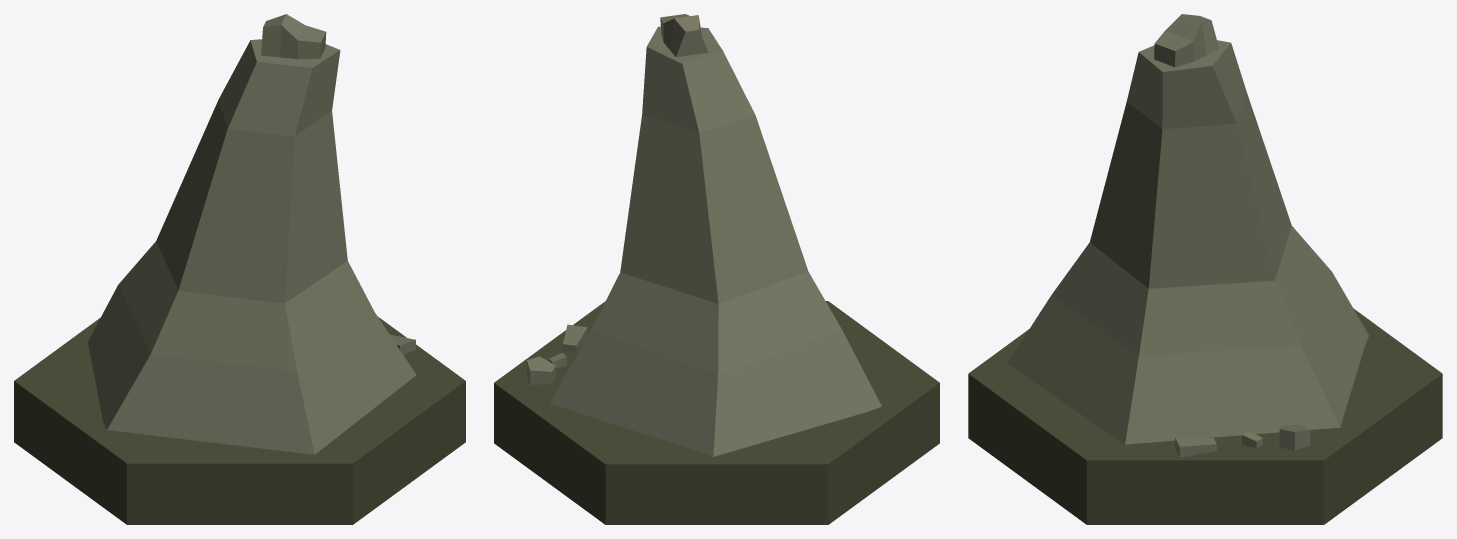
The model's file is GroundBlock(0).fbx.
3 views of the same model, side by side, from view 1: azimuth 30°, elevation 25°; view 2: azimuth 150°, elevation 25°; view 3: azimuth 270°, elevation 25° (orthographic). The views are drawn at different scales.
Parts seen in each view (by area): view 1: Block1; view 2: Block1; view 3: Block1.
Part boxes in pixels (<box>): Block1: <box>14,14,465,524</box>; Block1: <box>494,14,939,524</box>; Block1: <box>968,14,1442,524</box>.
Size of the model in its own units: 173 by 204 by 200.
